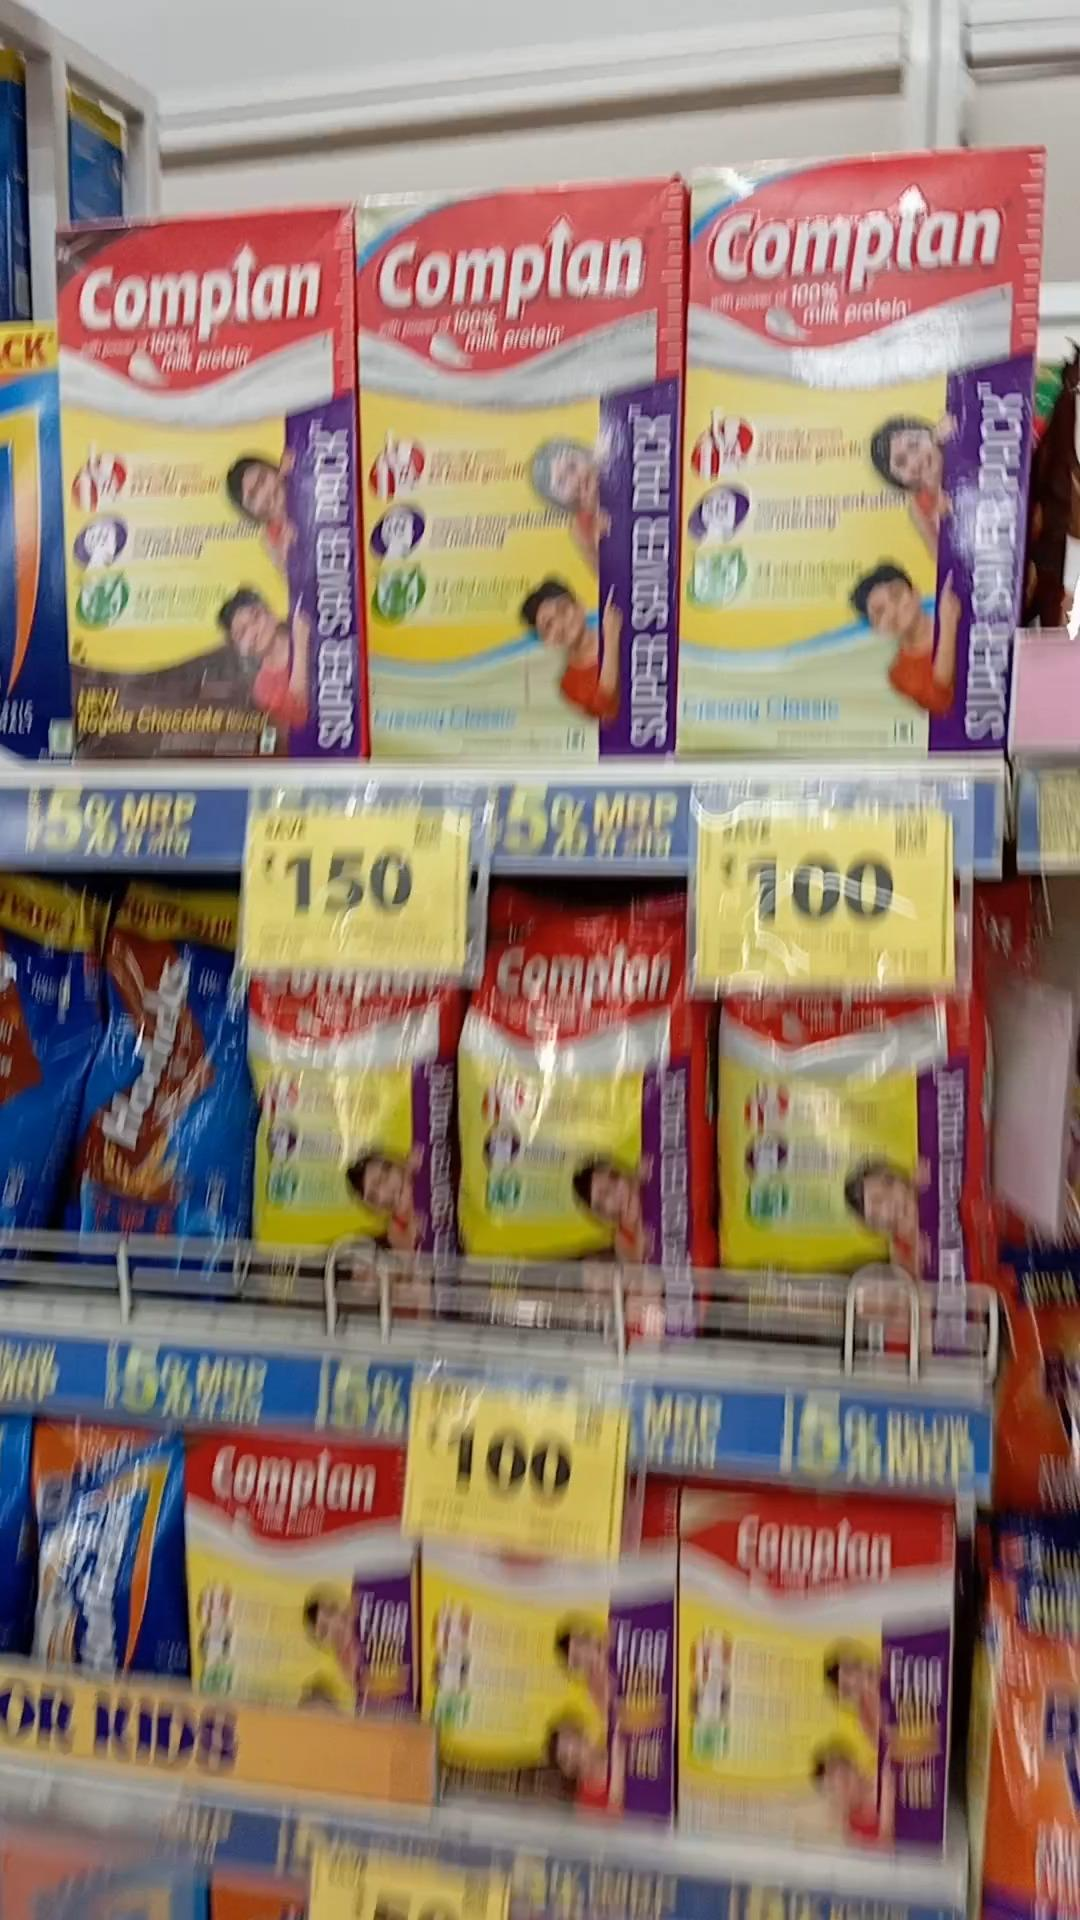COMPLAN_CHOCOLATE_1_KG_PACK: (63, 208, 360, 752)
COMPLAN_RC_POUCH_700_GMS_12: (458, 870, 699, 1305), (709, 989, 980, 1348), (258, 981, 446, 1290)
